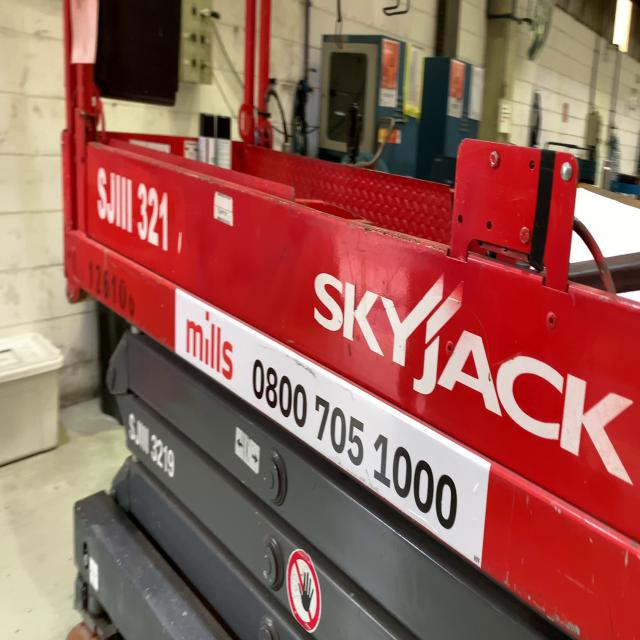Adesivo Longo: (172, 283, 494, 573)
